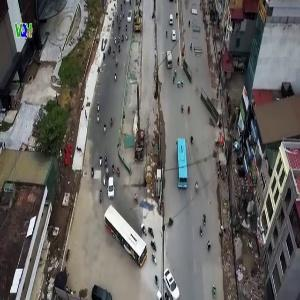drone: (123, 188, 169, 234)
